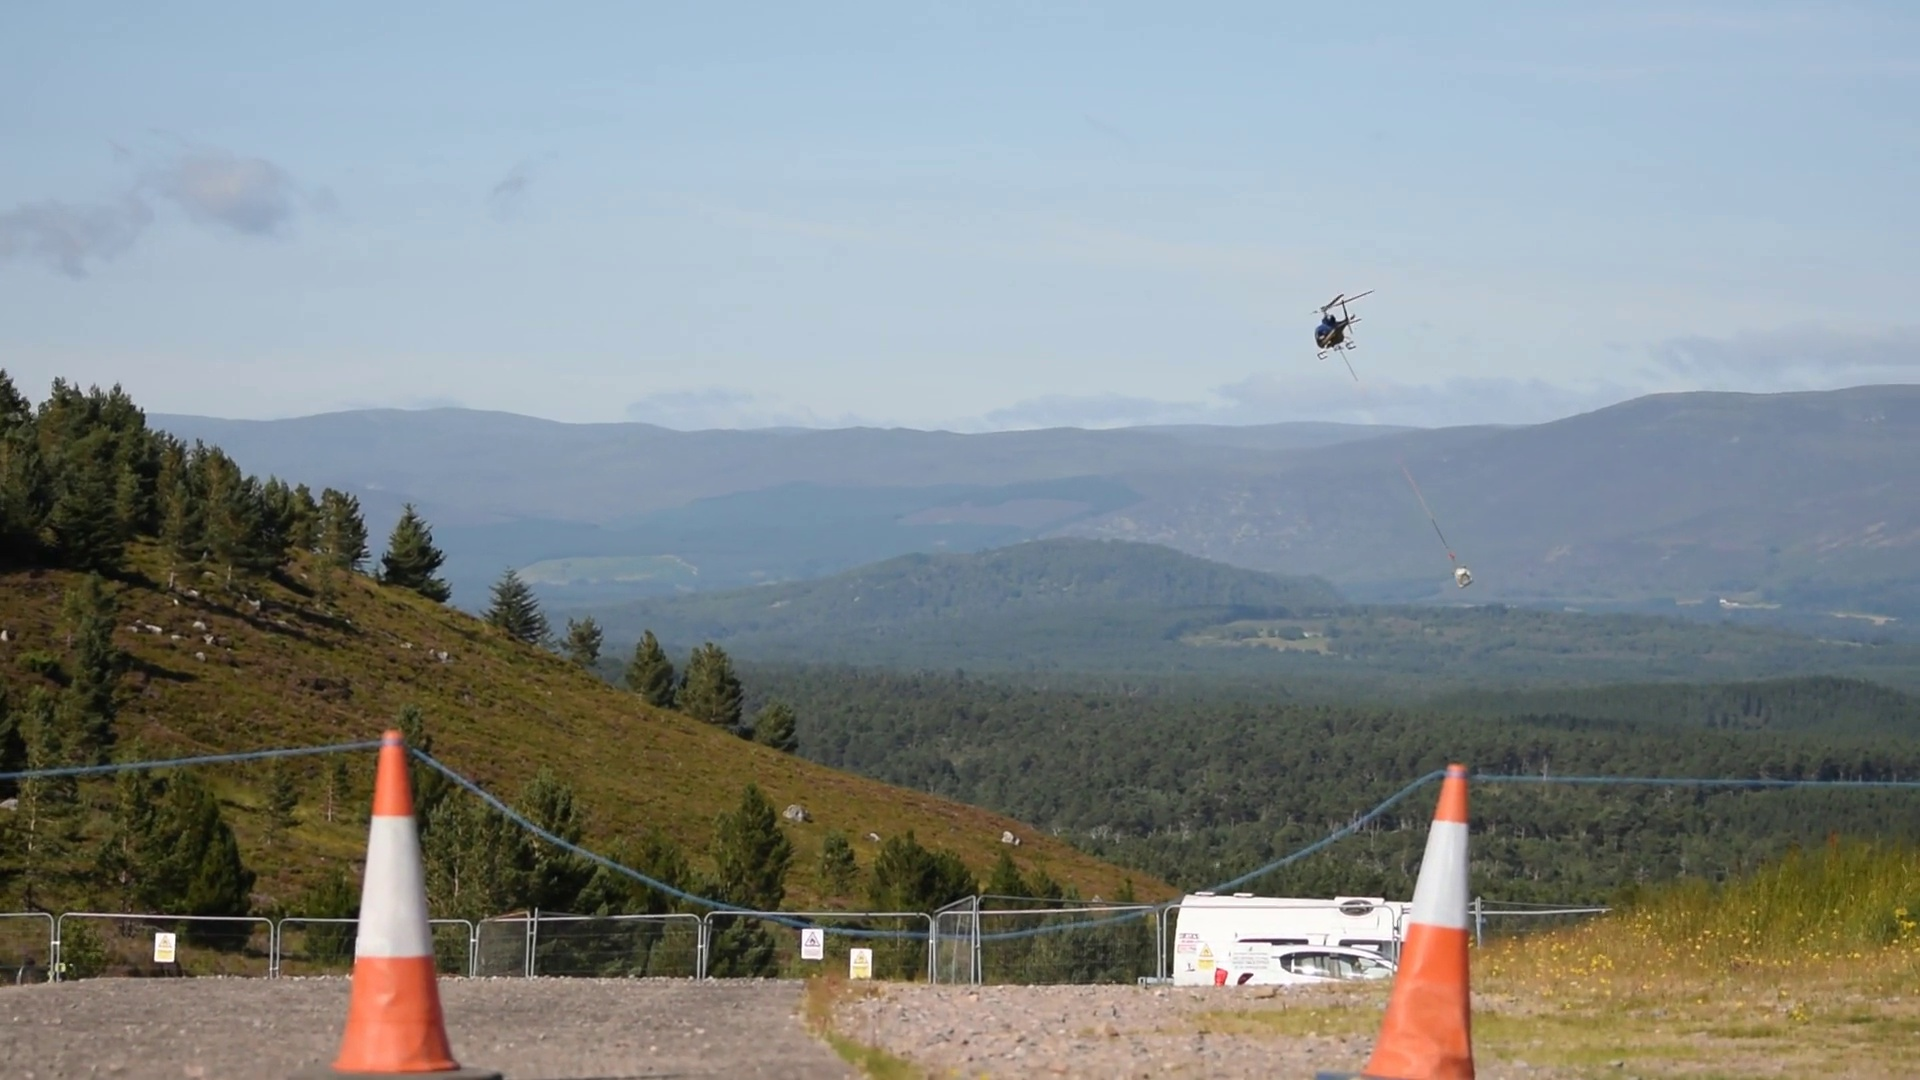heli: (1295, 287, 1373, 357)
